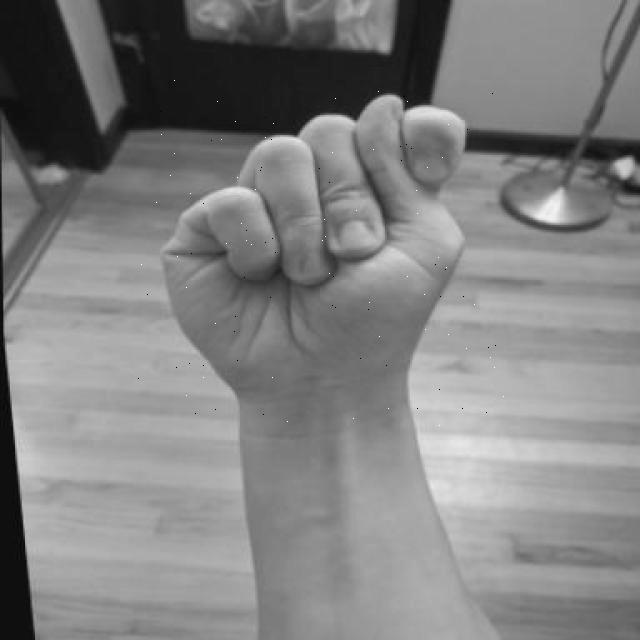T: (138, 77, 504, 428)
